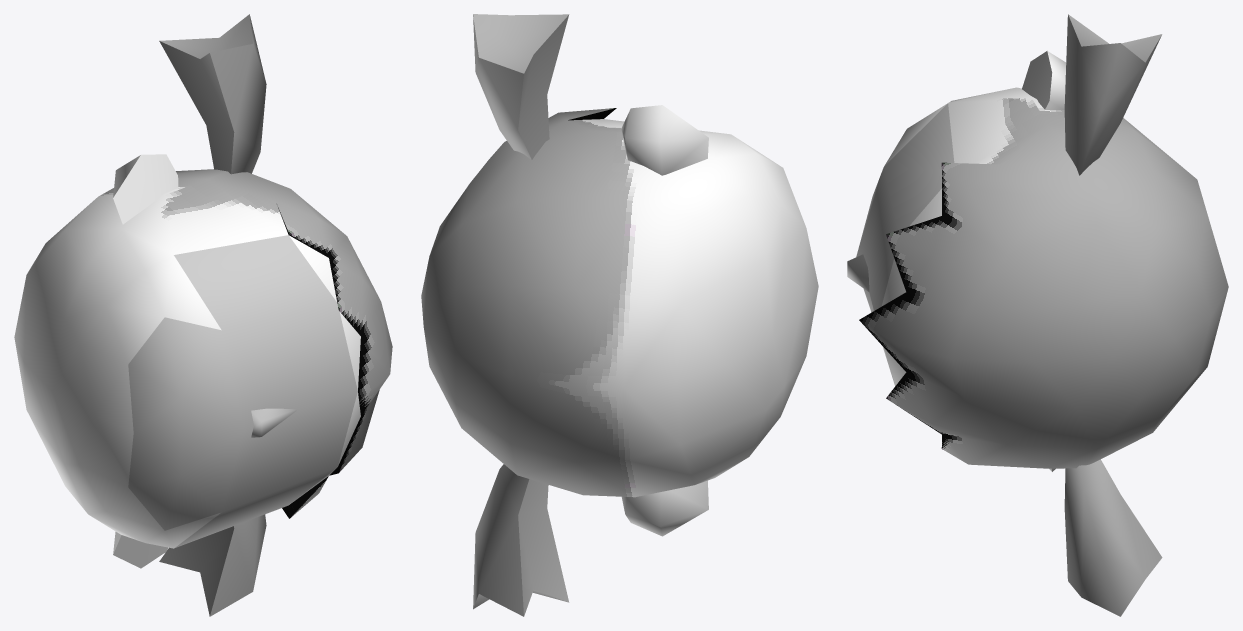
File: girl02a.dae
3 views of the same model, side by side, from view 1: azimuth 30°, elevation 25°; view 2: azimuth 150°, elevation 25°; view 3: azimuth 270°, elevation 25° (orthographic). The views are drawn at different scales.
Parts seen in each view (by area): view 1: vsn_mesh_0_, vsn_mesh_1_, vsn_mesh_2_; view 2: vsn_mesh_0_; view 3: vsn_mesh_0_, vsn_mesh_1_.
Boxes of the visible parts, left/top/right/bottom form: vsn_mesh_0_: left=14, top=14, right=392, bottom=616; vsn_mesh_1_: left=174, top=235, right=357, bottom=548; vsn_mesh_2_: left=128, top=317, right=243, bottom=530; vsn_mesh_0_: left=421, top=14, right=818, bottom=616; vsn_mesh_0_: left=859, top=14, right=1228, bottom=616; vsn_mesh_1_: left=847, top=103, right=954, bottom=385.
Bounding box in the file's own units: 20.94 × 36.85 × 22.2.
